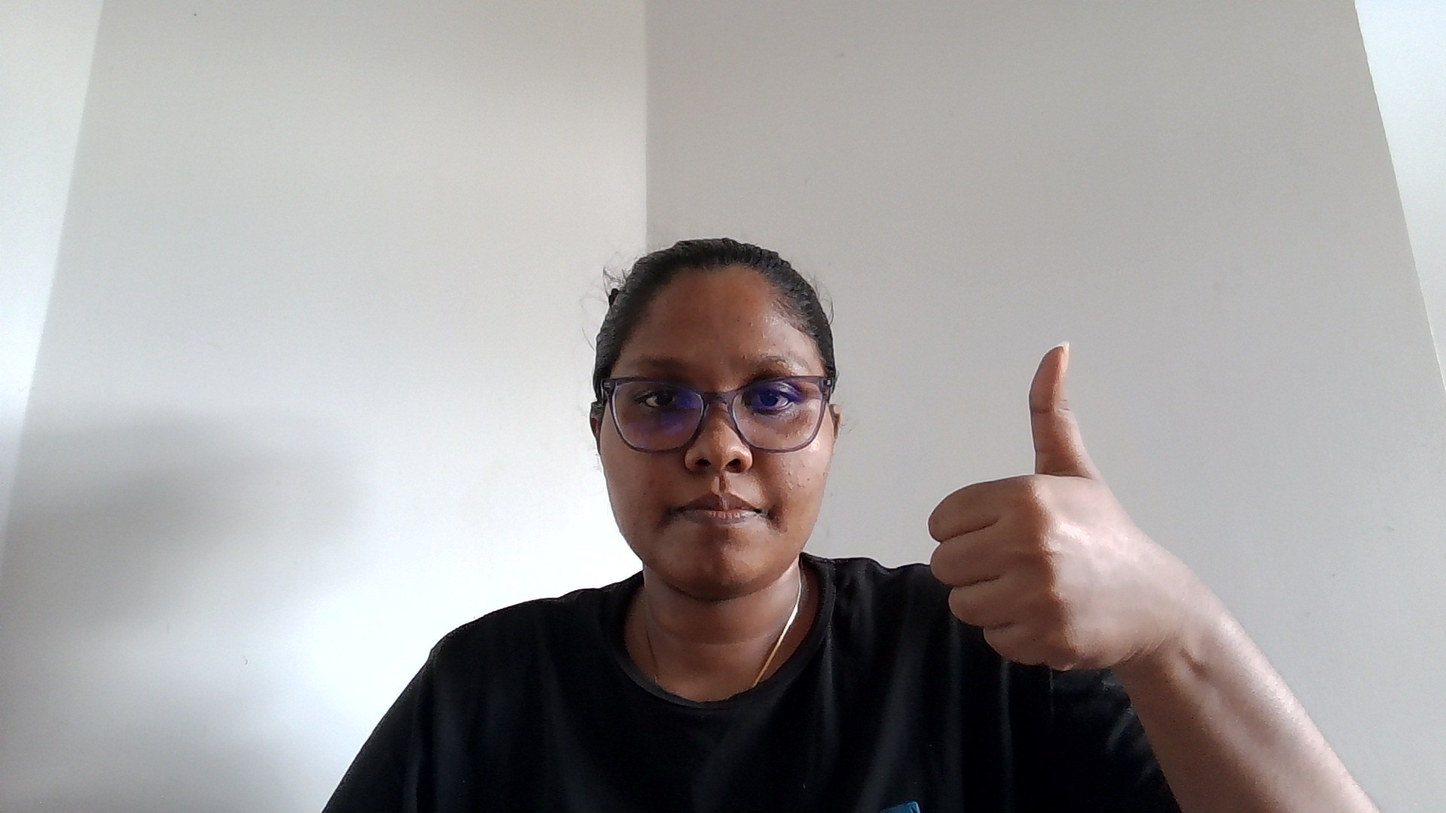Thumbs Up: (908, 294, 1263, 723)
